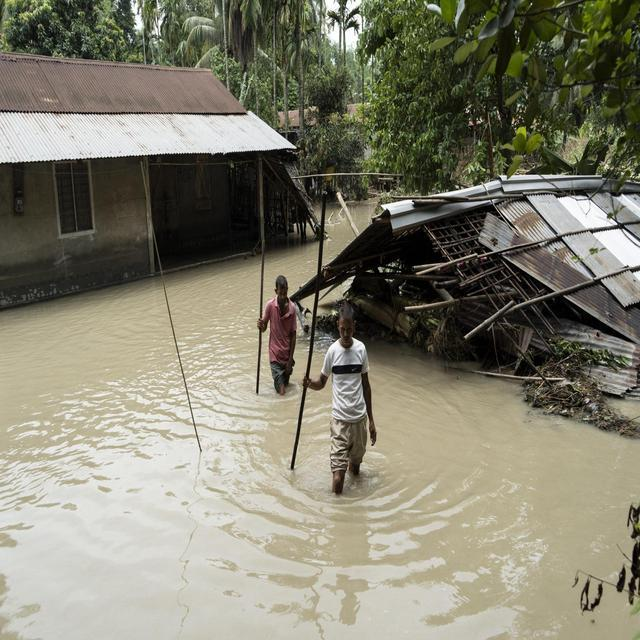Person-RiskLevel2: (298, 296, 385, 506), (246, 269, 304, 398)
